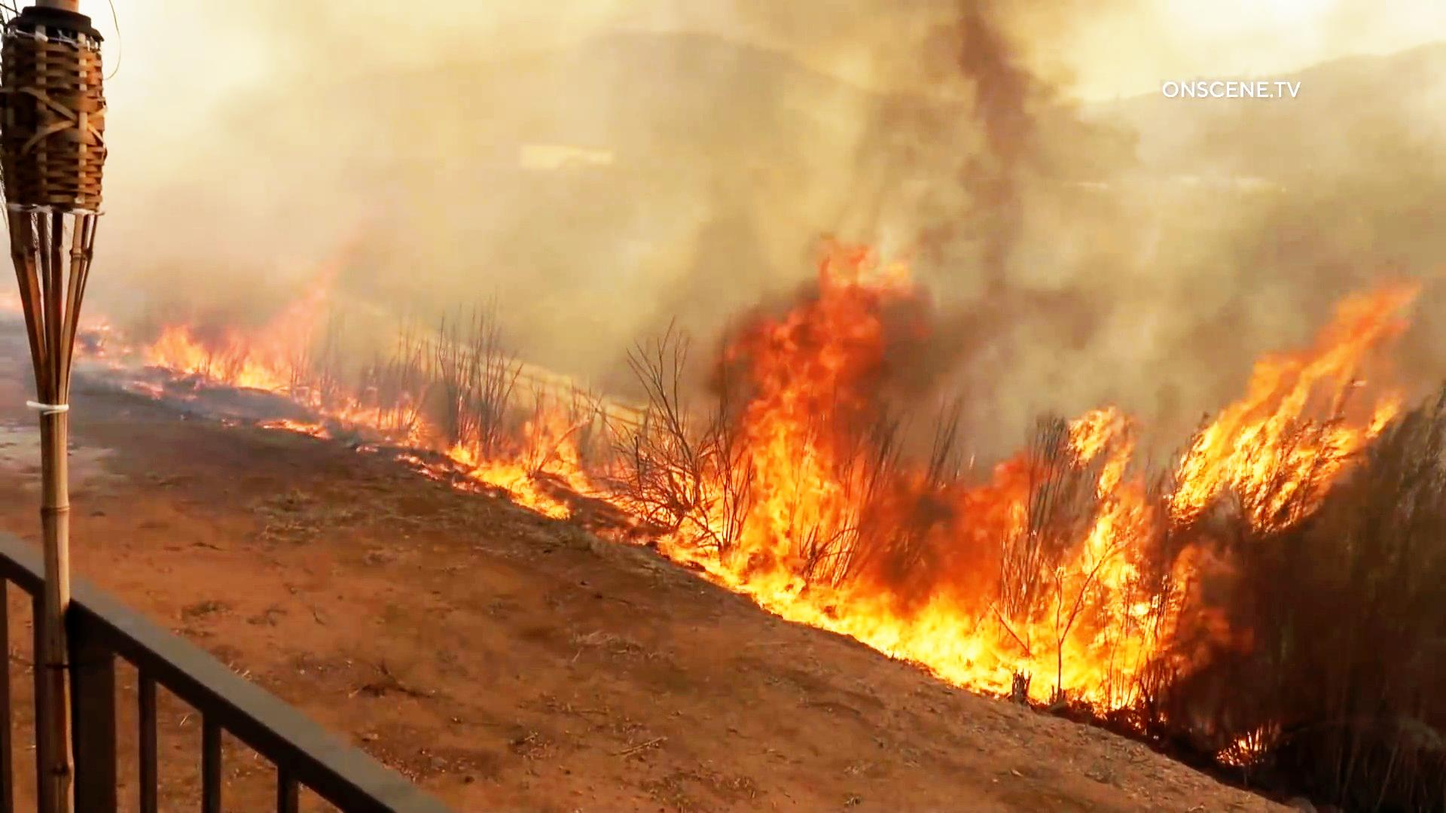fire: (676, 251, 908, 630), (900, 450, 1192, 699), (1157, 283, 1422, 529), (97, 241, 366, 401)
smoke: (185, 19, 787, 187), (838, 14, 1089, 235)
